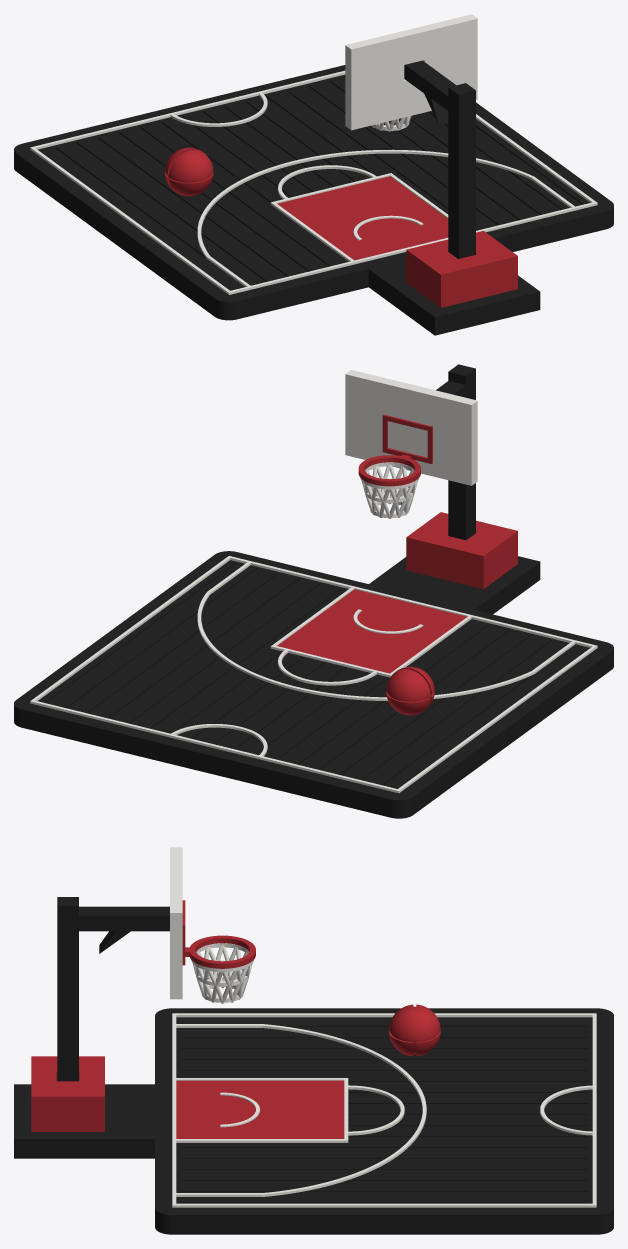
The picture shows the model from 3 angles, top to bottom: view 1: azimuth 30°, elevation 25°; view 2: azimuth 150°, elevation 25°; view 3: azimuth 270°, elevation 25°; orthographic projection. The views are drawn at different scales.
Visible parts, largest first — view 1: black_floor, white_board, white_lines, red_key, black_support, red_base, red_ball; view 2: black_floor, white_lines, white_board, red_key, red_base, black_support, white_net, red_ball, red_rim, red_square; view 3: black_floor, white_lines, red_key, black_support, red_base, white_net, red_ball, white_board, red_rim.
Boxes of the visible parts, box(x1,y1,x2,y2) form: black_floor: box(14, 65, 613, 335); white_board: box(345, 14, 477, 130); white_lines: box(30, 70, 597, 294); red_key: box(277, 176, 448, 260); black_support: box(404, 60, 475, 258); red_base: box(406, 231, 517, 307); red_ball: box(165, 147, 213, 196); black_floor: box(14, 551, 613, 818); white_lines: box(30, 556, 597, 793); white_board: box(345, 370, 477, 485); red_key: box(277, 589, 466, 673); red_base: box(406, 512, 517, 588); black_support: box(436, 364, 475, 540); white_net: box(360, 462, 419, 518); red_ball: box(386, 666, 434, 715); red_rim: box(358, 454, 420, 486); red_square: box(382, 414, 432, 463); black_floor: box(14, 1008, 613, 1234); white_lines: box(172, 1013, 596, 1207); red_key: box(176, 1080, 344, 1138); black_support: box(57, 897, 169, 1081); red_base: box(31, 1056, 104, 1131); white_net: box(191, 943, 254, 1003); red_ball: box(389, 1004, 440, 1056); white_board: box(170, 847, 182, 999); red_rim: box(185, 935, 255, 968).
Size of the model in its own units: 0.113 by 0.064 by 0.1386.
